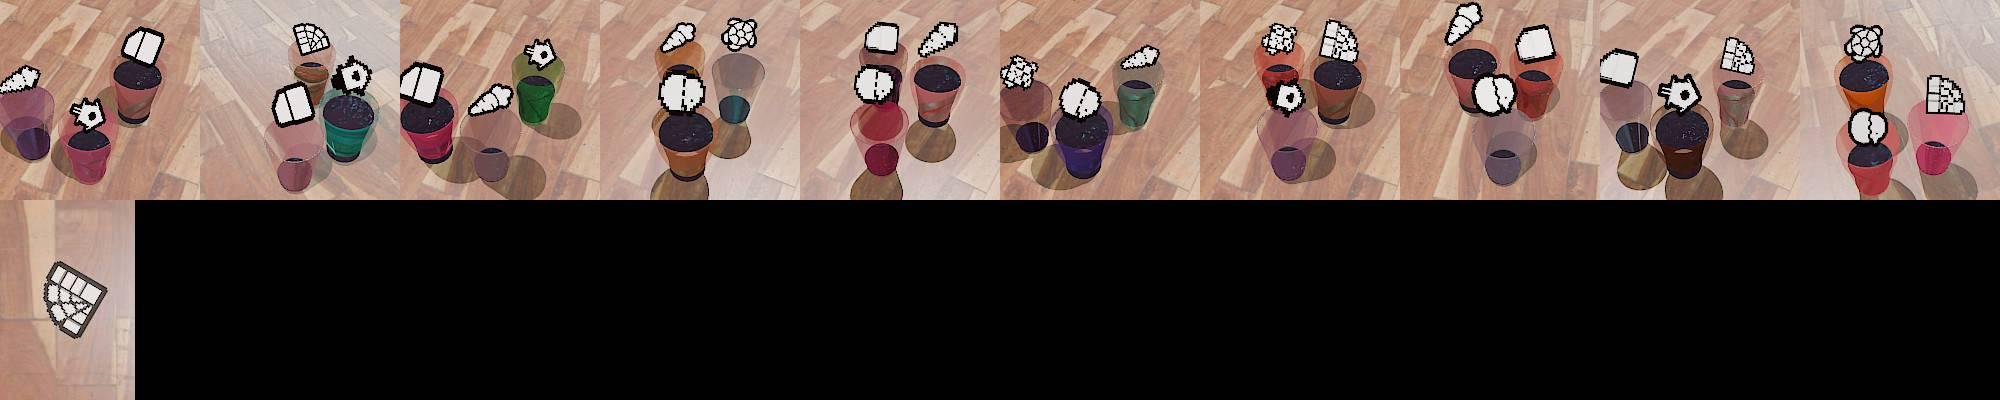icon: (41, 260, 108, 341), (1469, 73, 1519, 116), (270, 82, 316, 127), (658, 70, 707, 113), (1657, 73, 1704, 116), (399, 61, 444, 106), (1056, 76, 1102, 120), (853, 64, 899, 107), (1316, 19, 1360, 64), (1598, 46, 1640, 88), (332, 55, 374, 97), (1514, 23, 1557, 64), (1445, 1, 1483, 47), (466, 82, 514, 117), (121, 27, 165, 66), (916, 19, 959, 59), (1846, 107, 1888, 145), (1925, 74, 1963, 115), (1718, 36, 1756, 76), (1846, 23, 1885, 61), (68, 96, 107, 132), (999, 54, 1038, 90), (719, 17, 759, 52), (292, 22, 332, 57), (862, 20, 901, 56), (659, 20, 699, 55), (1261, 22, 1297, 57), (522, 37, 559, 70), (0, 65, 41, 94), (1270, 79, 1305, 113), (1121, 45, 1161, 71)
